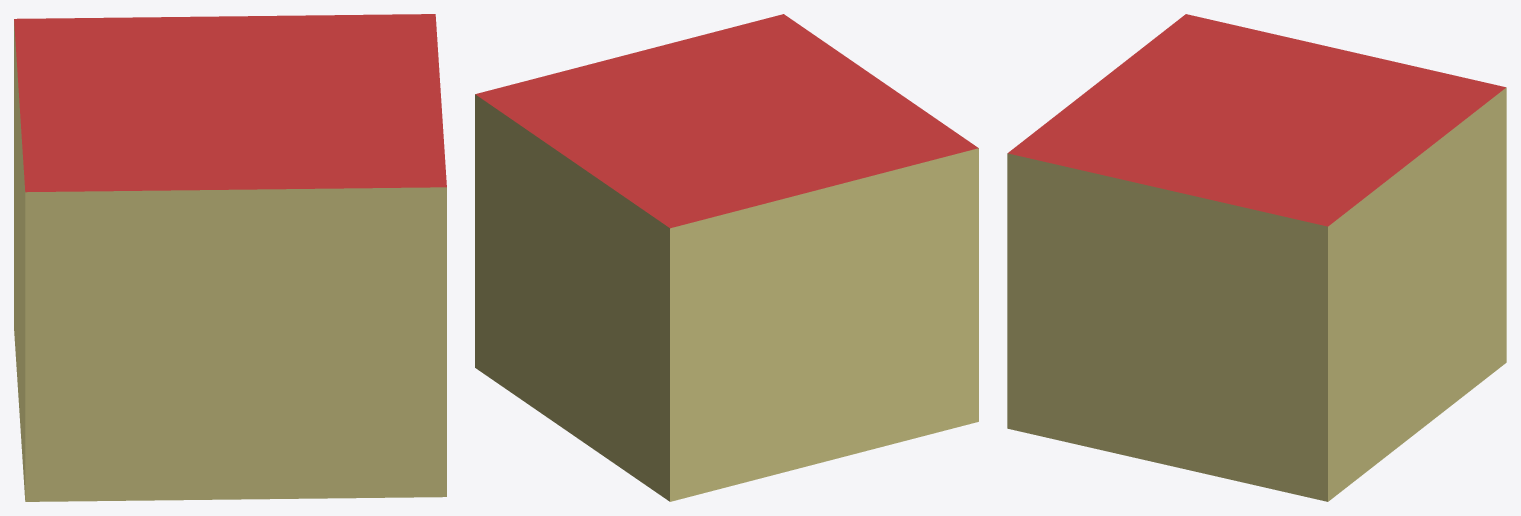
3 renders of one model, left to right at view 1: azimuth 30°, elevation 25°; view 2: azimuth 150°, elevation 25°; view 3: azimuth 270°, elevation 25°, orthographic. The views are drawn at different scales.
Size of the model in its own units: 8.1 by 8.04 by 4.89.
